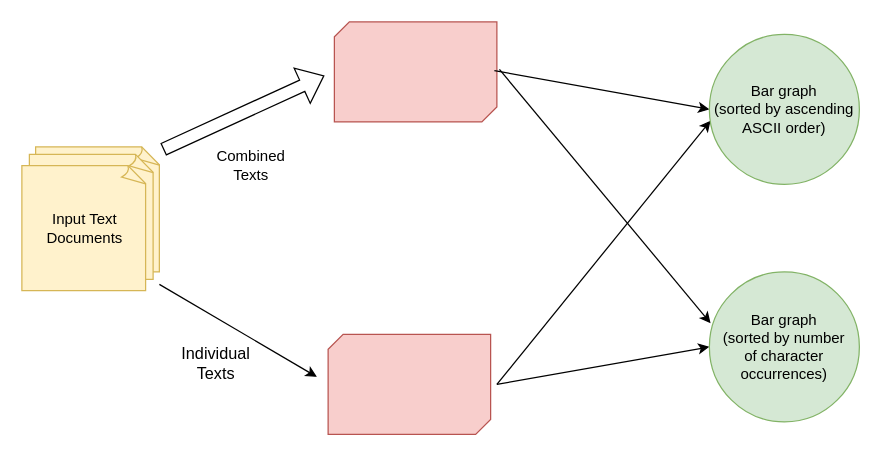
Some shapes in this 881 by 456 pixel diagram are drawn without their labels. Here are the shapes that lost their labels. From the top down, the centre of each, then its label:
At [415,71]: "Character composition of all texts combined".
At [409,383]: "Character composition of individual text".
